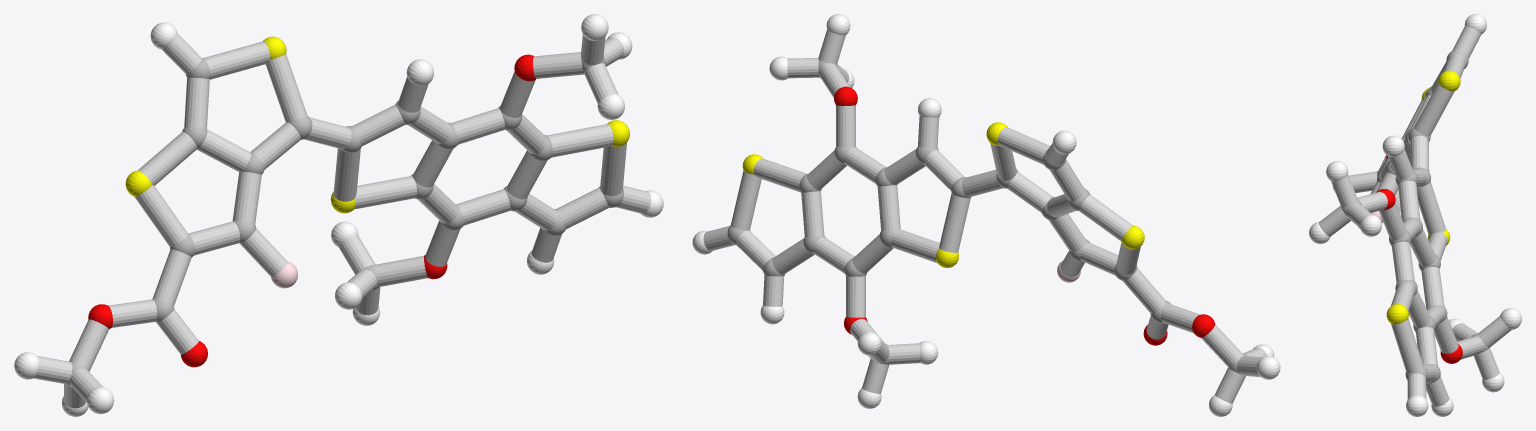
File: color.glb
The picture shows the model from 3 angles, left to right: view 1: azimuth 30°, elevation 25°; view 2: azimuth 150°, elevation 25°; view 3: azimuth 270°, elevation 25°; orthographic projection. The views are drawn at different scales.
Visible parts, largest first — view 1: grp15205, grp8689, grp1, grp13395, grp7241; view 2: grp15205, grp8689, grp1, grp7241, grp13395; view 3: grp15205, grp8689, grp1, grp7241, grp13395.
Boxes of the visible parts, left/top/right/bottom form: grp15205: left=33, top=34, right=651, bottom=408; grp8689: left=14, top=14, right=663, bottom=416; grp1: left=67, top=57, right=623, bottom=387; grp13395: left=88, top=54, right=535, bottom=367; grp7241: left=125, top=36, right=629, bottom=213; grp15205: left=703, top=30, right=1267, bottom=403; grp8689: left=692, top=14, right=1280, bottom=416; grp1: left=727, top=60, right=1246, bottom=373; grp7241: left=742, top=122, right=1144, bottom=267; grp13395: left=834, top=86, right=1215, bottom=345; grp15205: left=1319, top=26, right=1511, bottom=406; grp8689: left=1309, top=14, right=1521, bottom=416; grp1: left=1341, top=50, right=1488, bottom=383; grp7241: left=1386, top=70, right=1460, bottom=324; grp13395: left=1358, top=155, right=1462, bottom=363.
Bounding box in the file's own units: 16.57 × 8.68 × 5.73.
